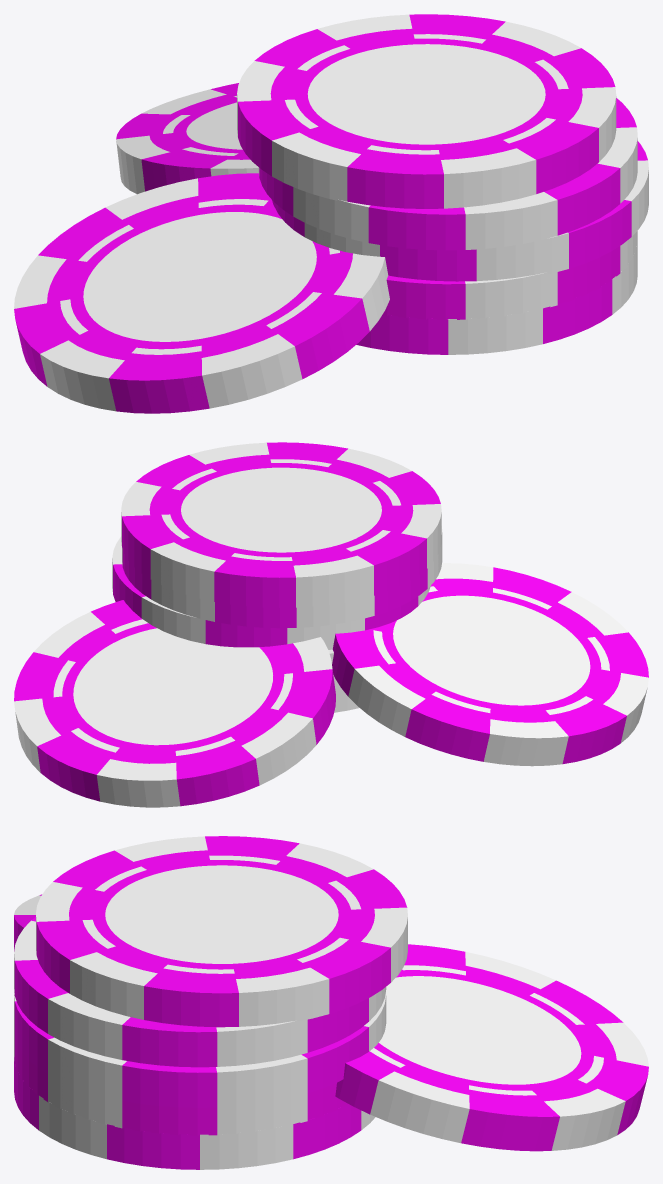
Rendered from stack_purple.gltf.
3 renders of one model, top to bottom at view 1: azimuth 30°, elevation 25°; view 2: azimuth 150°, elevation 25°; view 3: azimuth 270°, elevation 25°, orthographic. The views are drawn at different scales.
Visible parts, largest first — view 1: sidetwo, Cylinder.004, Cylinder.003, Cylinder.002, sideone, Cylinder, Cylinder.001; view 2: sideone, sidetwo, Cylinder.004, Cylinder.003, Cylinder.002; view 3: Cylinder.004, sideone, Cylinder.003, Cylinder.002, Cylinder, Cylinder.001, sidetwo.
Boxes of the visible parts, left/top/right/bottom form: sidetwo: left=14, top=173, right=389, bottom=413; Cylinder.004: left=237, top=14, right=616, bottom=208; Cylinder.003: left=258, top=98, right=637, bottom=250; Cylinder.002: left=272, top=141, right=648, bottom=281; sideone: left=116, top=83, right=258, bottom=194; Cylinder: left=356, top=243, right=637, bottom=354; Cylinder.001: left=382, top=231, right=637, bottom=319; sideone: left=14, top=600, right=335, bottom=807; sidetwo: left=332, top=563, right=648, bottom=766; Cylinder.004: left=121, top=442, right=441, bottom=607; Cylinder.003: left=122, top=526, right=442, bottom=628; Cylinder.002: left=112, top=536, right=430, bottom=649; Cylinder.004: left=36, top=836, right=407, bottom=1027; sideone: left=335, top=944, right=648, bottom=1151; Cylinder.003: left=14, top=917, right=386, bottom=1067; Cylinder.002: left=14, top=992, right=386, bottom=1107; Cylinder: left=14, top=1057, right=375, bottom=1169; Cylinder.001: left=14, top=1030, right=348, bottom=1135; sidetwo: left=14, top=894, right=41, bottom=951.
Size of the model in its own units: 5.12 by 1.59 by 4.91.
